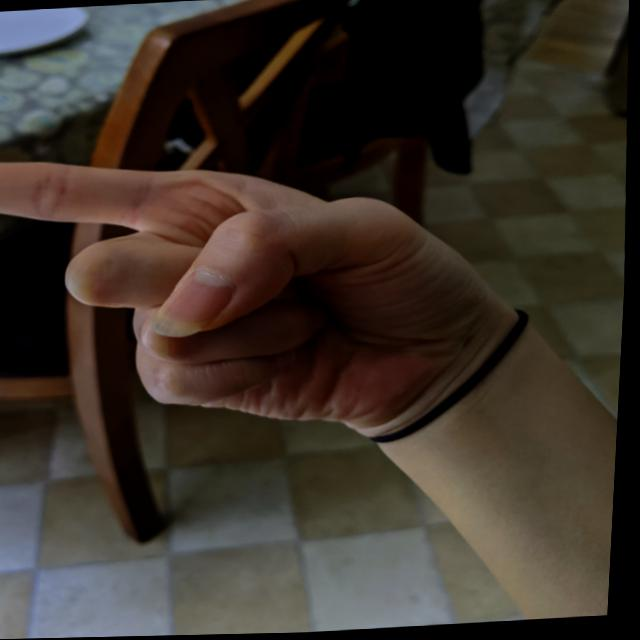G: (0, 125, 513, 458)
